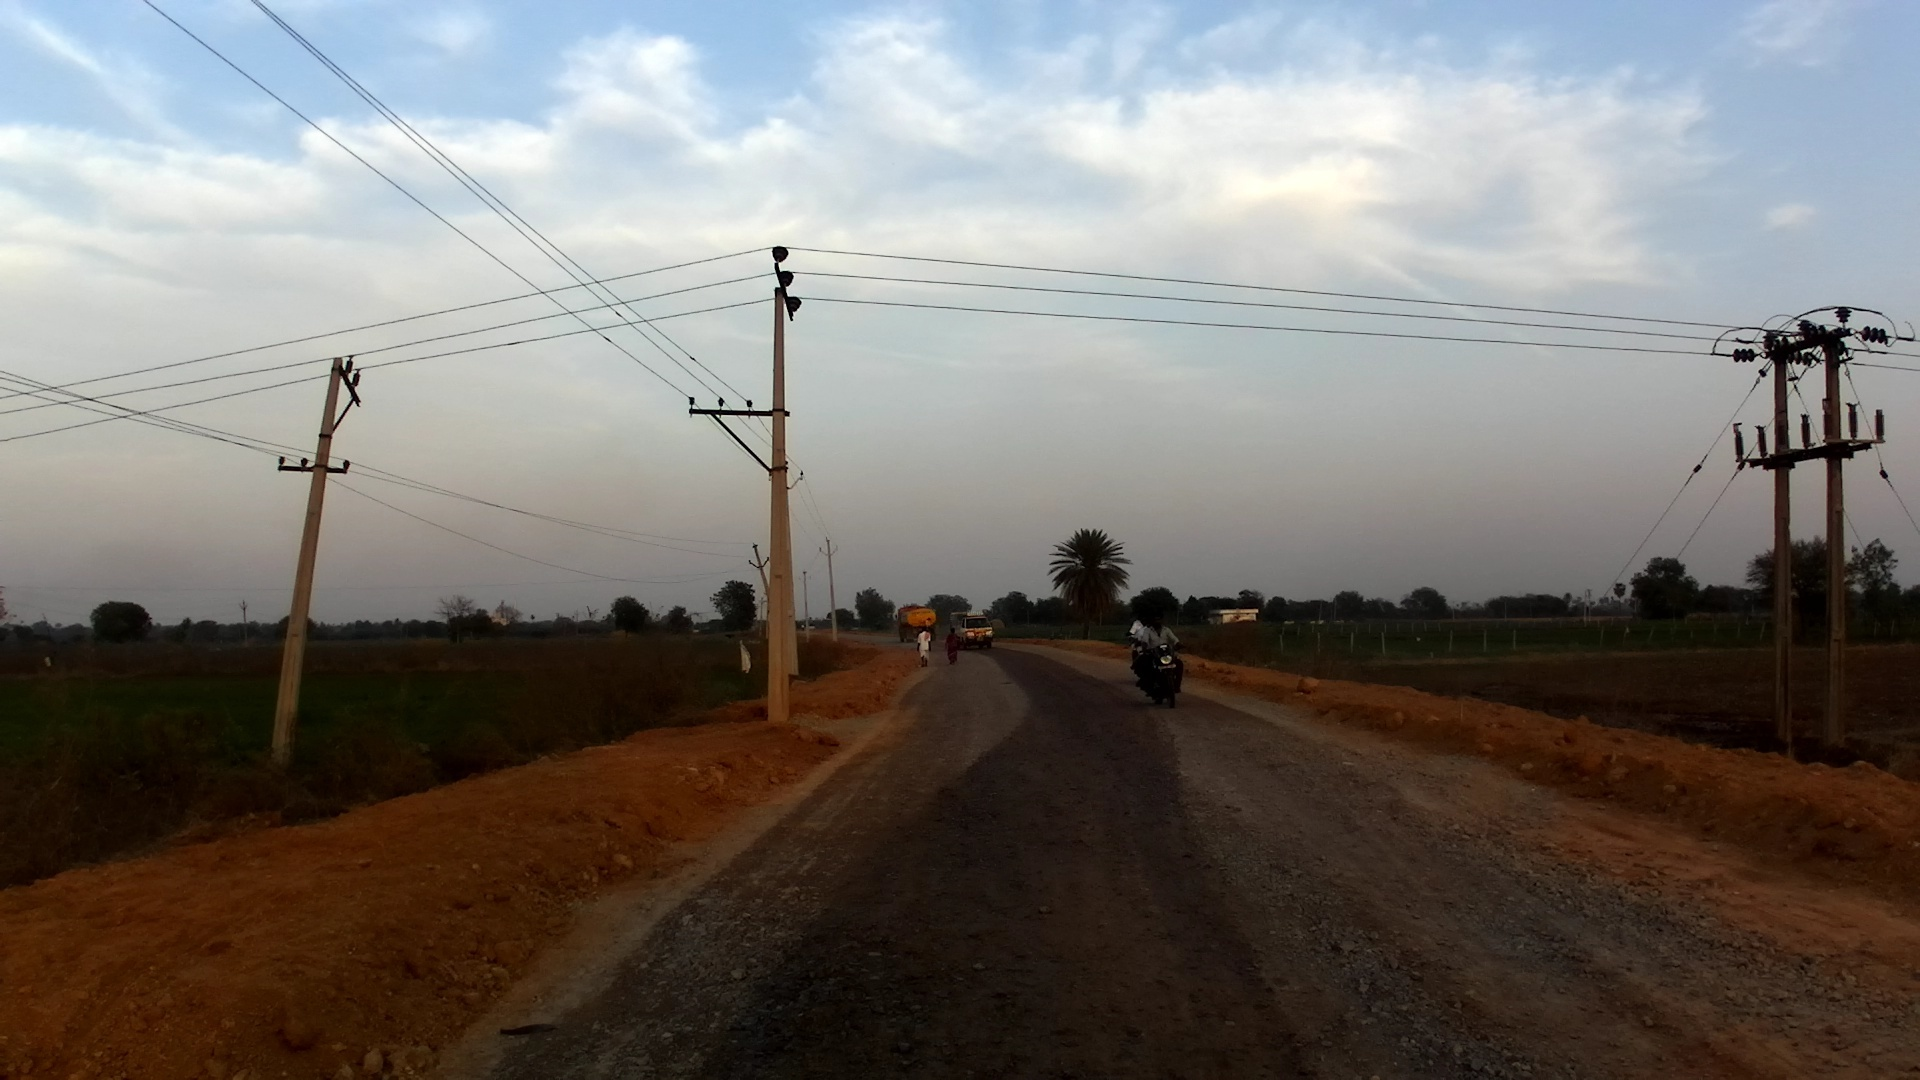motorcycle: (1139, 644, 1186, 706), (1127, 638, 1153, 694)
person: (913, 624, 935, 674), (939, 626, 961, 668)
rider: (1141, 610, 1177, 694), (1127, 610, 1152, 675)
truck: (895, 603, 939, 651), (946, 609, 997, 650)
